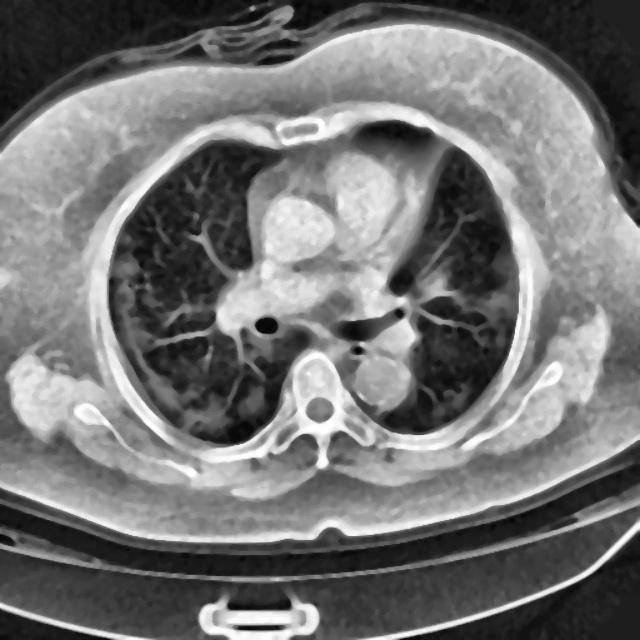covid: (1, 5, 638, 556)
